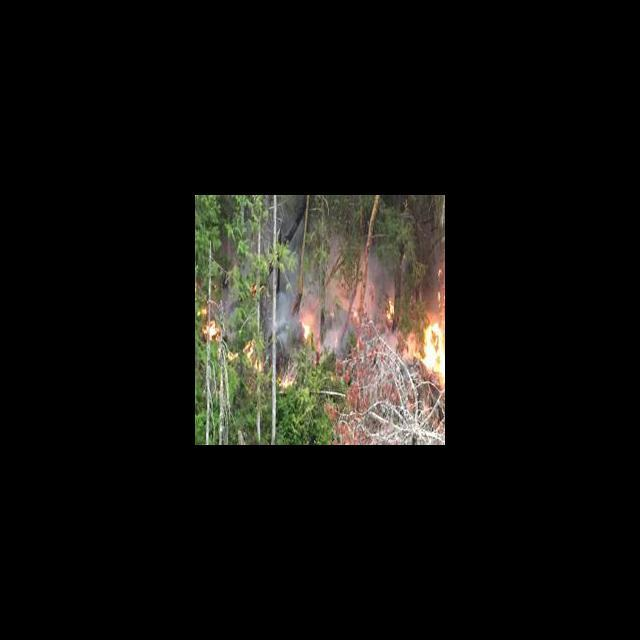Fire: (416, 318, 444, 380), (196, 308, 220, 341), (300, 317, 316, 337), (383, 302, 399, 320)
